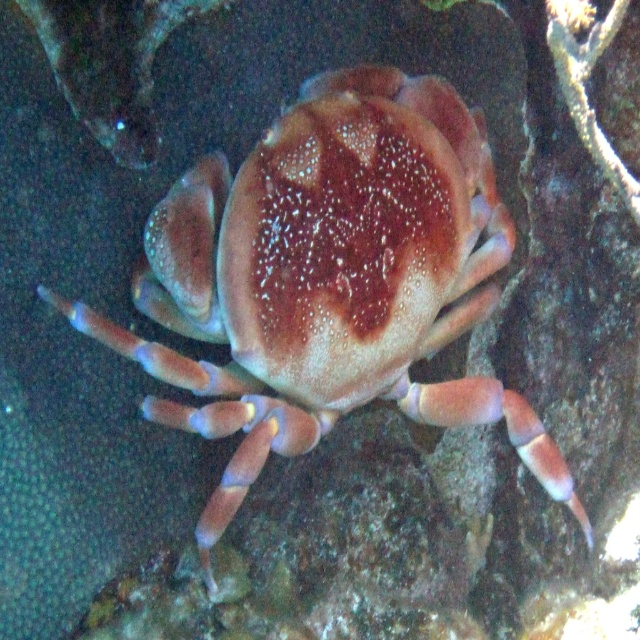Crab: (33, 62, 600, 555)
